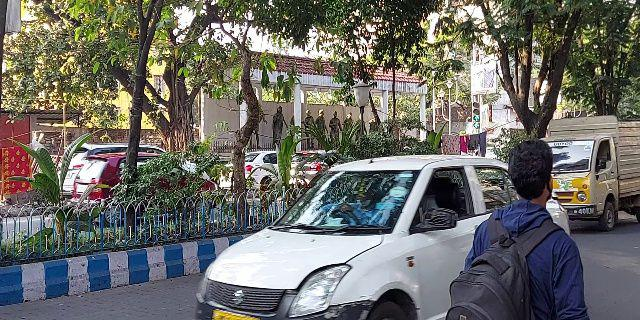Car: (196, 154, 567, 320)
Minitruck: (543, 114, 640, 233)
